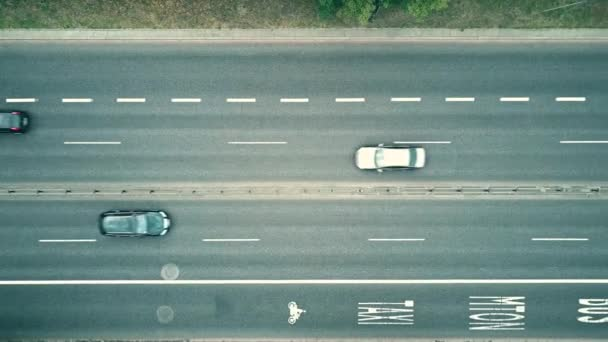Car: (351, 142, 430, 172)
LaneMark: (2, 278, 608, 287), (221, 138, 291, 146), (529, 235, 590, 243), (496, 95, 532, 107), (37, 237, 98, 244), (367, 236, 427, 243), (553, 94, 589, 105), (332, 95, 367, 106), (443, 94, 477, 105), (201, 237, 262, 243), (392, 140, 452, 146), (224, 95, 258, 105), (58, 95, 95, 104), (387, 95, 424, 104), (168, 96, 204, 105), (61, 140, 125, 145), (278, 95, 310, 105), (558, 139, 608, 145), (114, 96, 147, 105), (4, 96, 39, 104)
